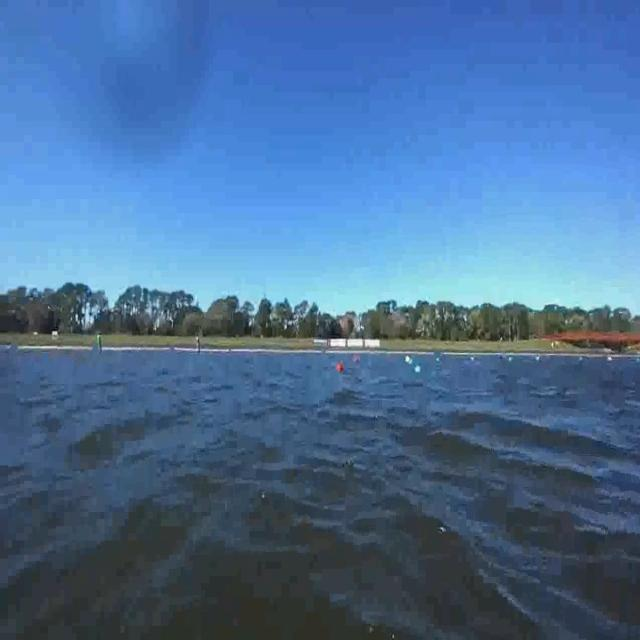red-buoy: (338, 362, 344, 372)
